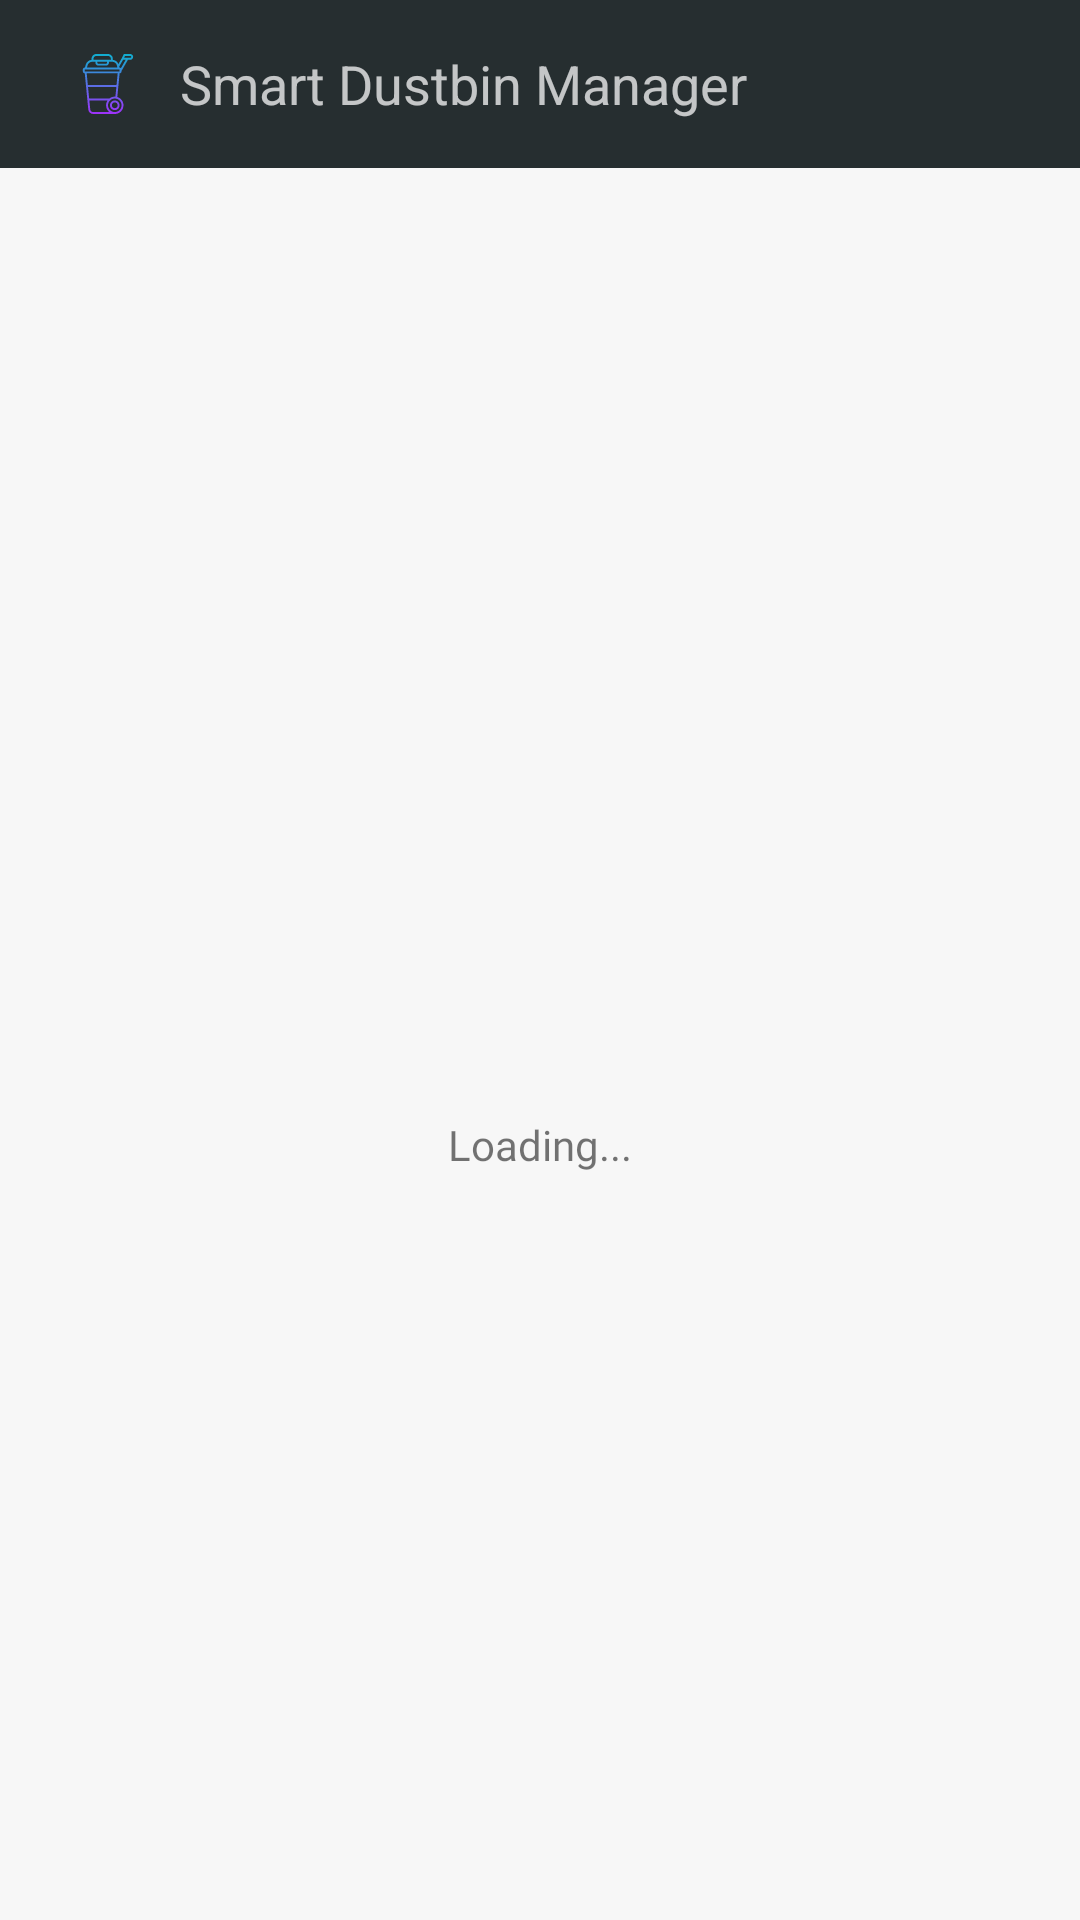

Screen size 1080px x 1920px. Icon name, then its center in pixels as point (x, y):
bin: point (107, 84)
